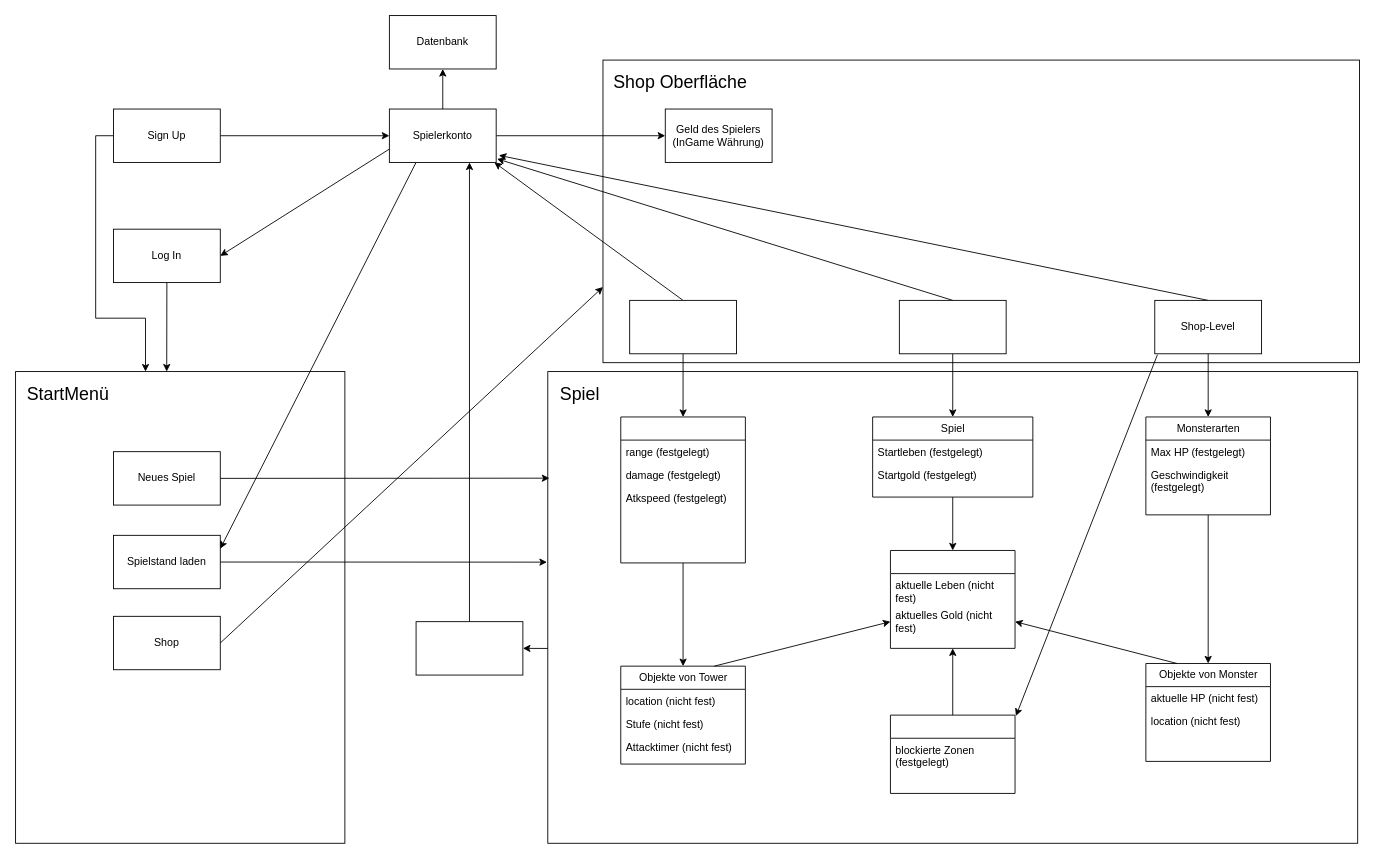
Image size: 1375x859. Some labels were removed from this diagram. The box of each missing label's shape, as (x1, y1, x2, y2) in pixels:
Items: (898, 299, 1006, 354)
Mapcanvas: (890, 714, 1015, 793)
Objekt von Spiel: (890, 550, 1015, 648)
Shop-Tower: (629, 299, 736, 354)
Spiel speichern: (415, 621, 523, 675)
Towerarten: (620, 416, 745, 563)
